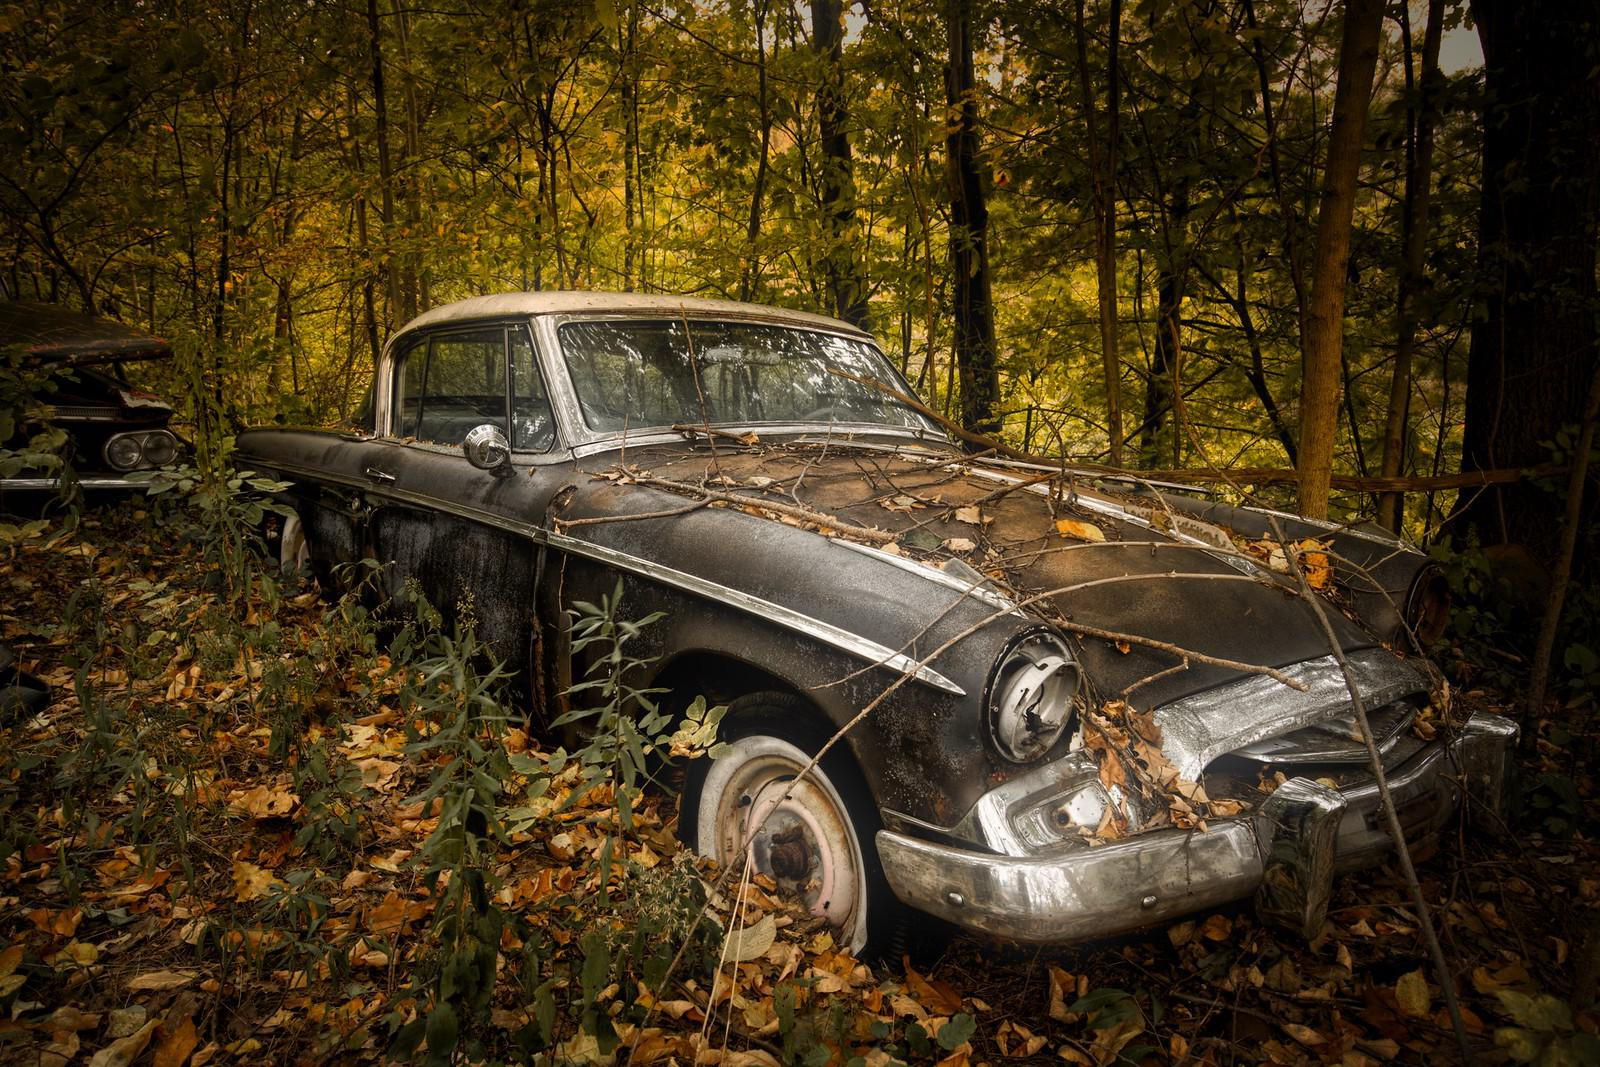bonnet-dent: (568, 437, 1346, 670)
